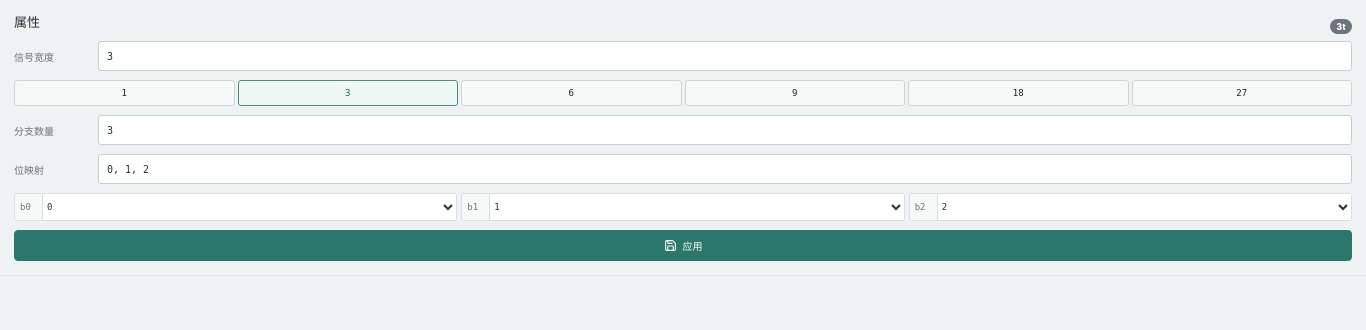
Scenario: PropertyEditor › does not submit malformed local mapping syntax
Replace the text in the field labelled "位映射" with "0, x, 1" at coordinates (725, 169), box x1=98 y1=154 x2=1352 y2=184
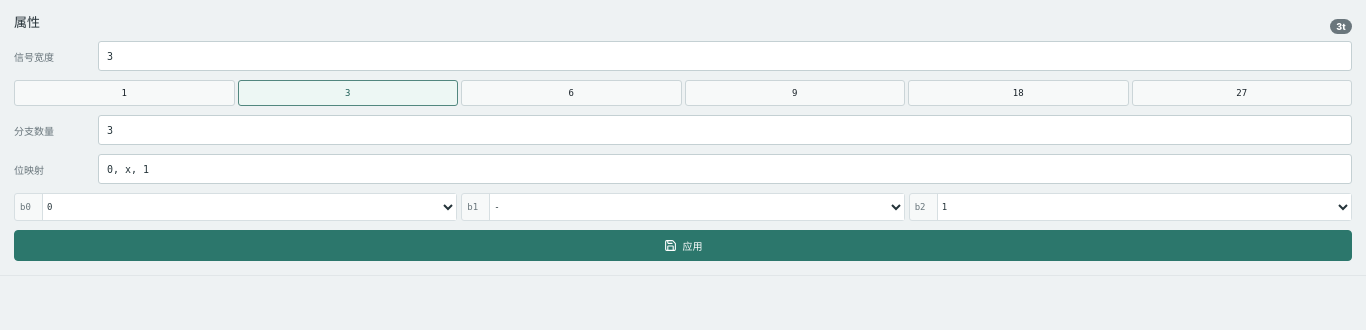
Click the button with aria-label "应用属性" at coordinates (683, 246), box x1=14 y1=230 x2=1352 y2=261
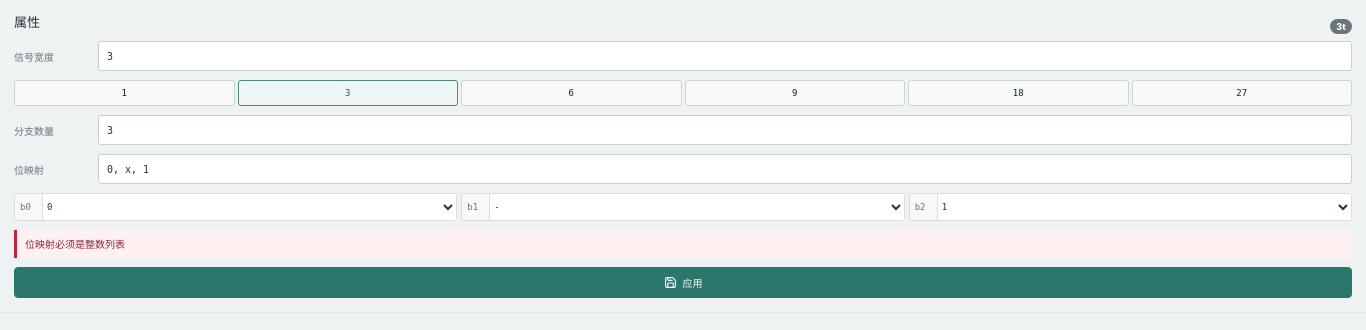
expect the message reads "位映射必须是整数列表": met, box x1=25 y1=238 x2=125 y2=250
